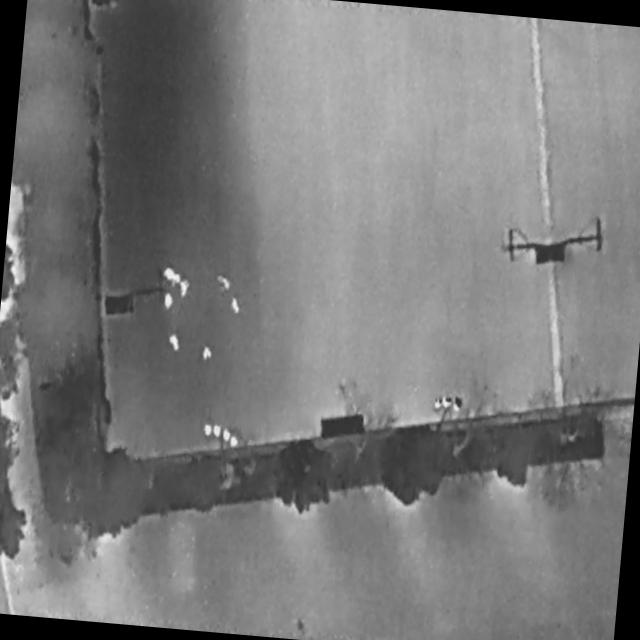person: (169, 335, 181, 353), (180, 280, 191, 298), (231, 297, 242, 315), (218, 275, 231, 290), (164, 291, 174, 309), (173, 273, 182, 290), (164, 267, 175, 280), (203, 348, 212, 361)
